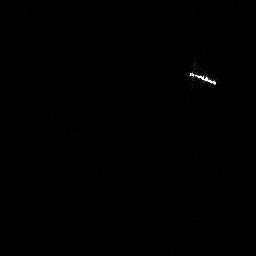ship: (186, 68, 219, 87)
